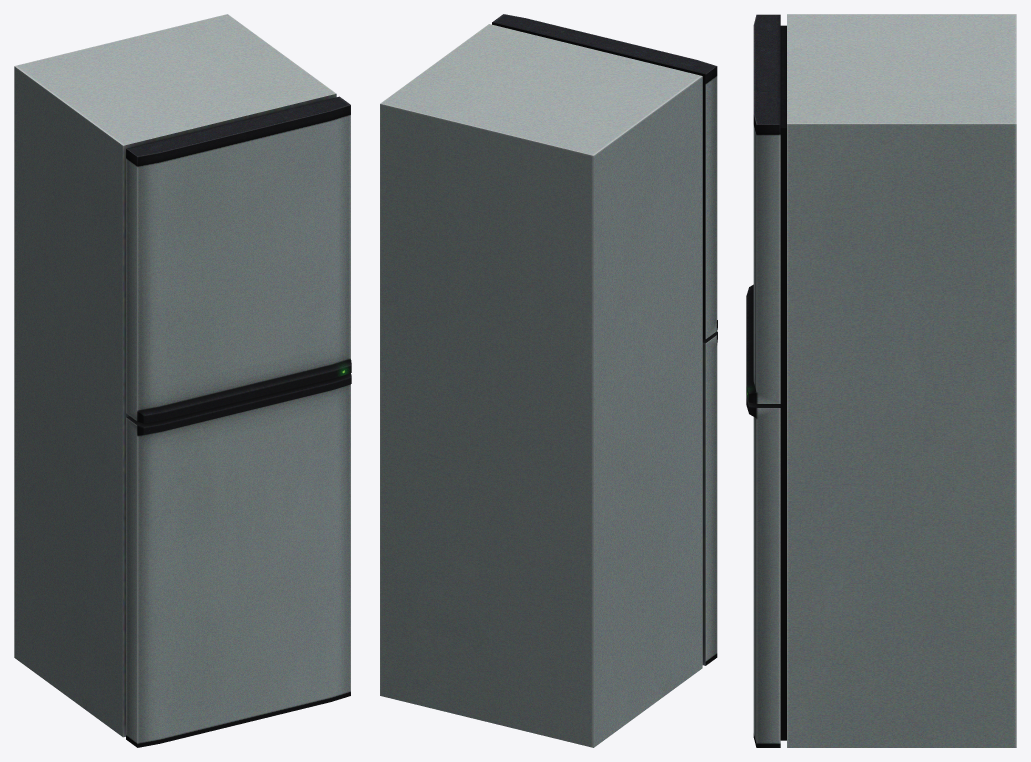
The model's file is Sun_0096_Fridge.fbx.
3 renders of one model, left to right at view 1: azimuth 30°, elevation 25°; view 2: azimuth 150°, elevation 25°; view 3: azimuth 270°, elevation 25°, orthographic. The views are drawn at different scales.
Visible parts, largest first — view 1: Sun_0096_Fridge; view 2: Sun_0096_Fridge; view 3: Sun_0096_Fridge.
Boxes of the visible parts, x1,y1,x2,y2 form: Sun_0096_Fridge: (14,14,351,747); Sun_0096_Fridge: (380,14,717,747); Sun_0096_Fridge: (746,14,1016,747).
Bounding box in the file's own units: 64.79 × 172 × 67.37.
